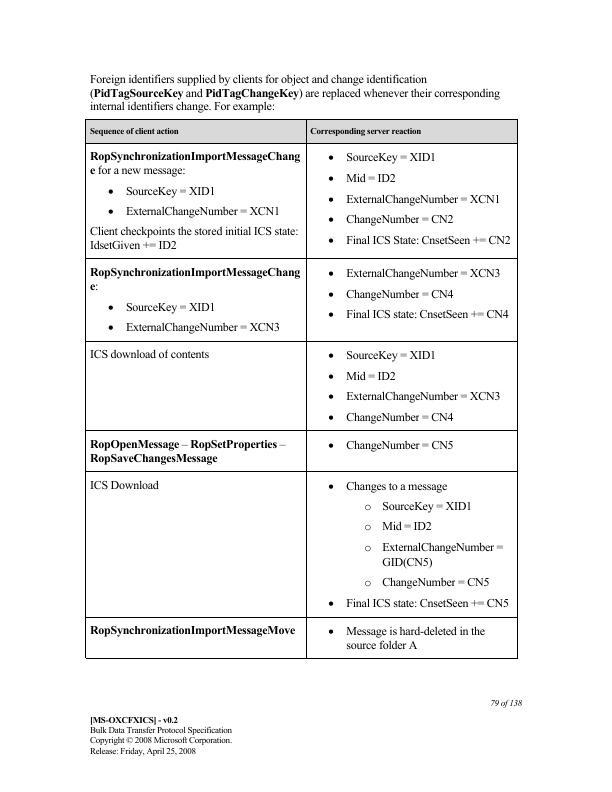table: (85, 118, 517, 659)
text: (86, 70, 502, 112), (86, 712, 236, 757), (487, 697, 524, 709)
